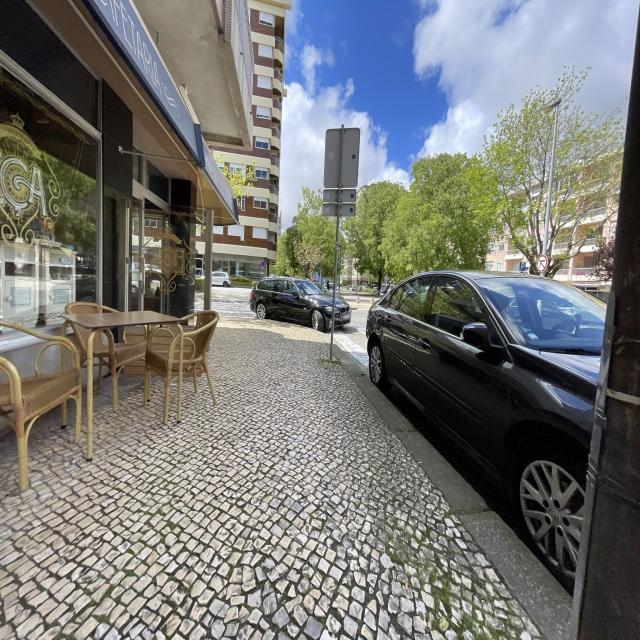forb_stopping: (261, 261, 266, 267)
